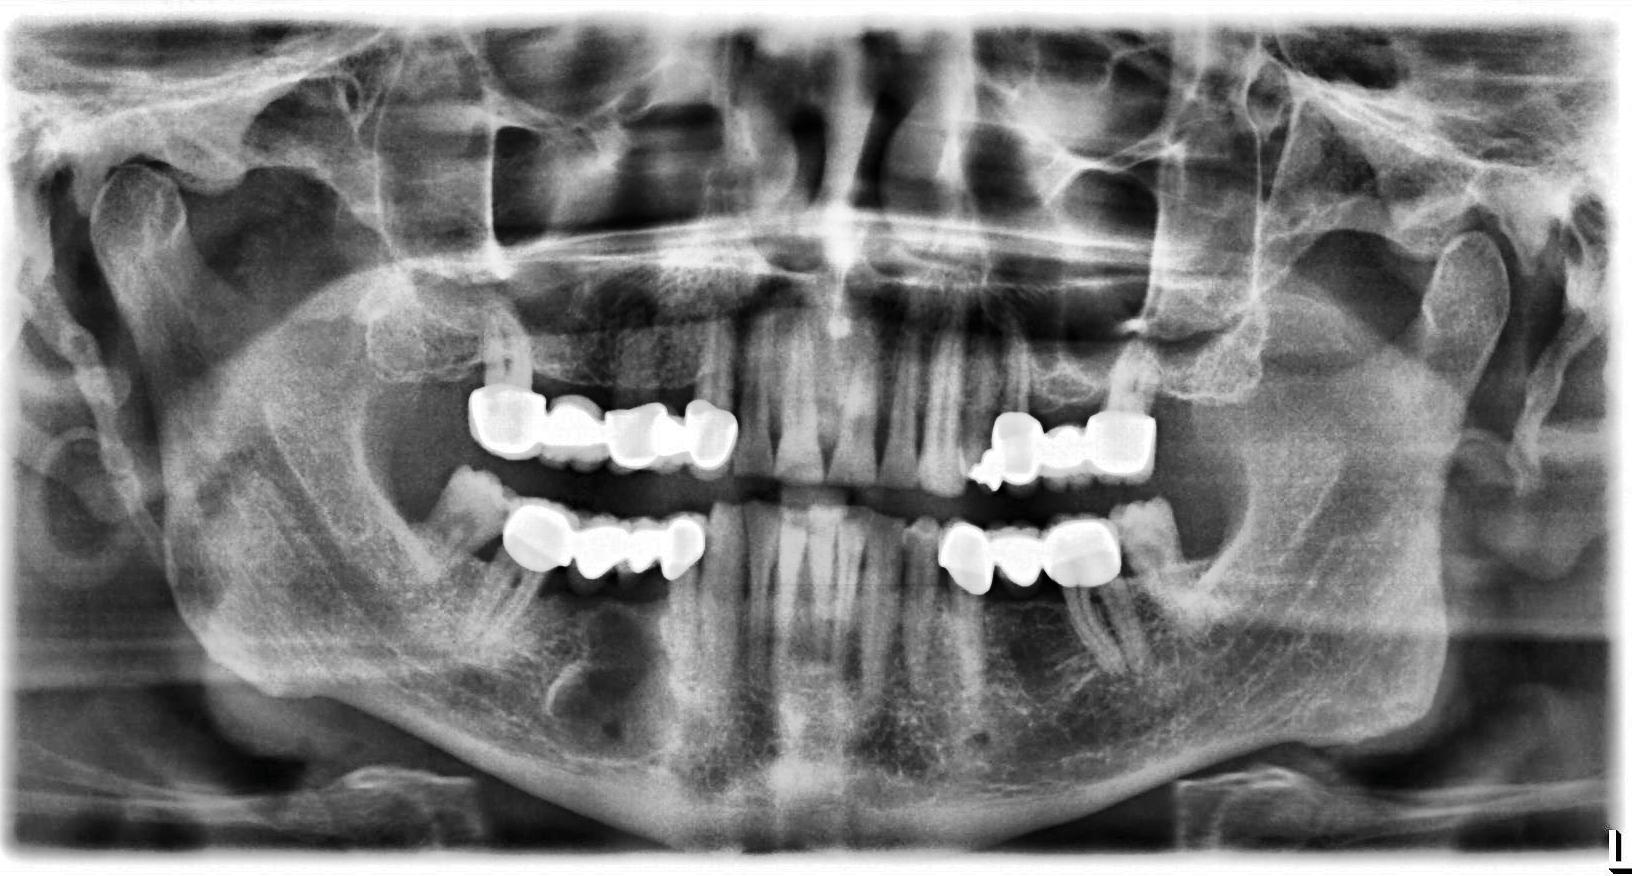keratokist: (547, 603, 683, 764)
